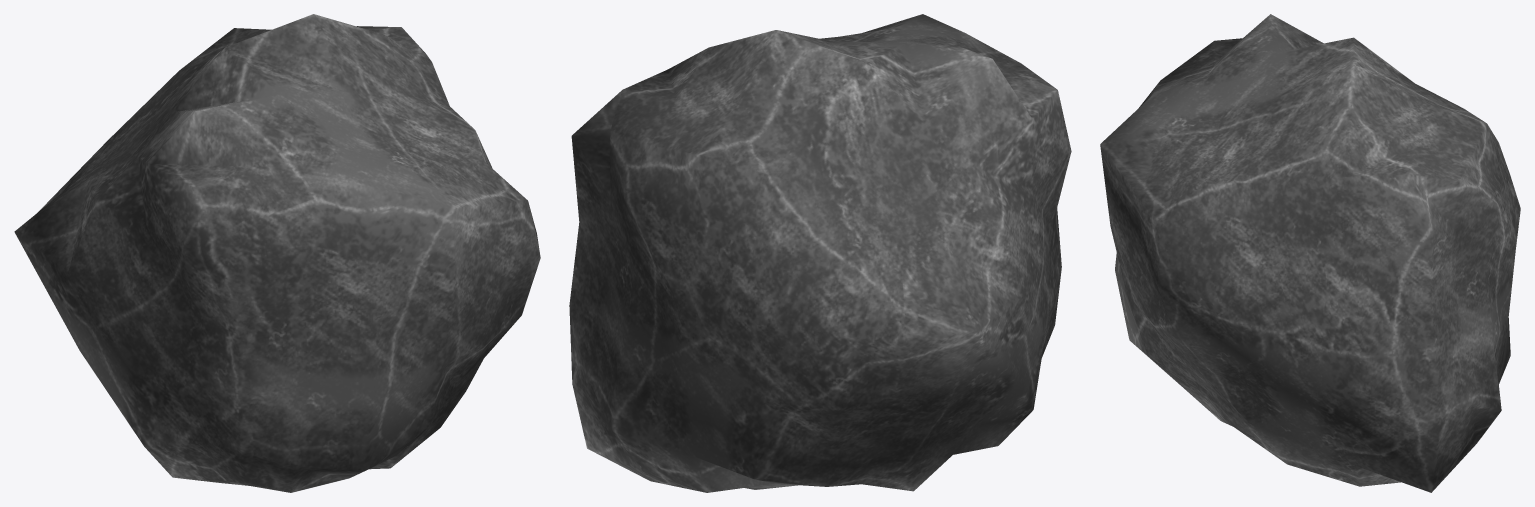
The model's file is rock.glb.
3 renders of one model, left to right at view 1: azimuth 30°, elevation 25°; view 2: azimuth 150°, elevation 25°; view 3: azimuth 270°, elevation 25°, orthographic. The views are drawn at different scales.
Parts seen in each view (by area): view 1: g; view 2: g; view 3: g.
Boxes of the visible parts, x1=… form: g: x1=14, y1=14, x2=540, y2=492; g: x1=569, y1=14, x2=1071, y2=492; g: x1=1100, y1=14, x2=1520, y2=492.
Bounding box in the file's own units: 2 × 1.98 × 1.9.
Materials: 1 (1 with a texture image).
